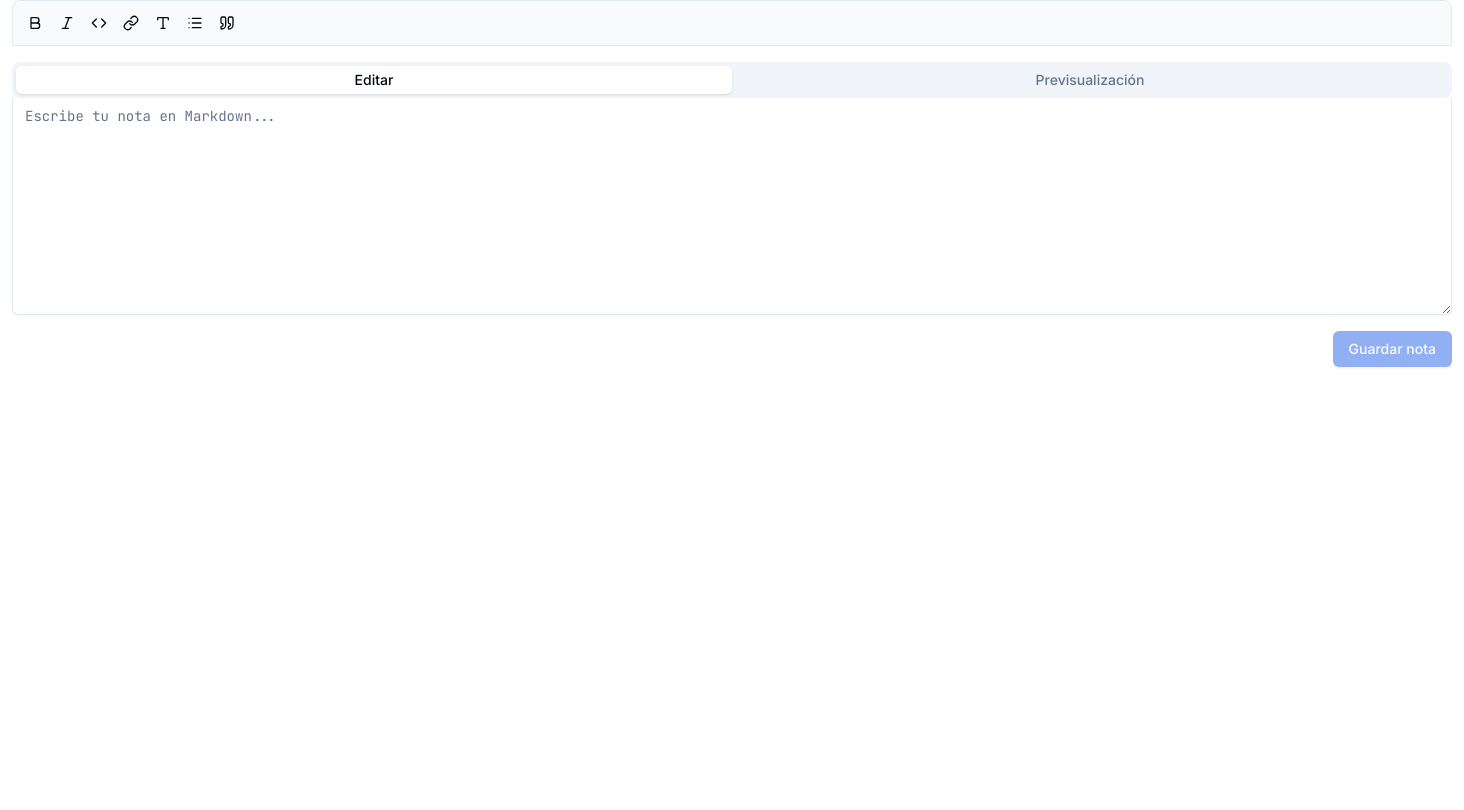
NoteEditor › shows error toast on mutation failure
In the text box with placeholder "Escribe tu nota en Markdown...": (732, 206) [12,98,1452,315], type "Test note"
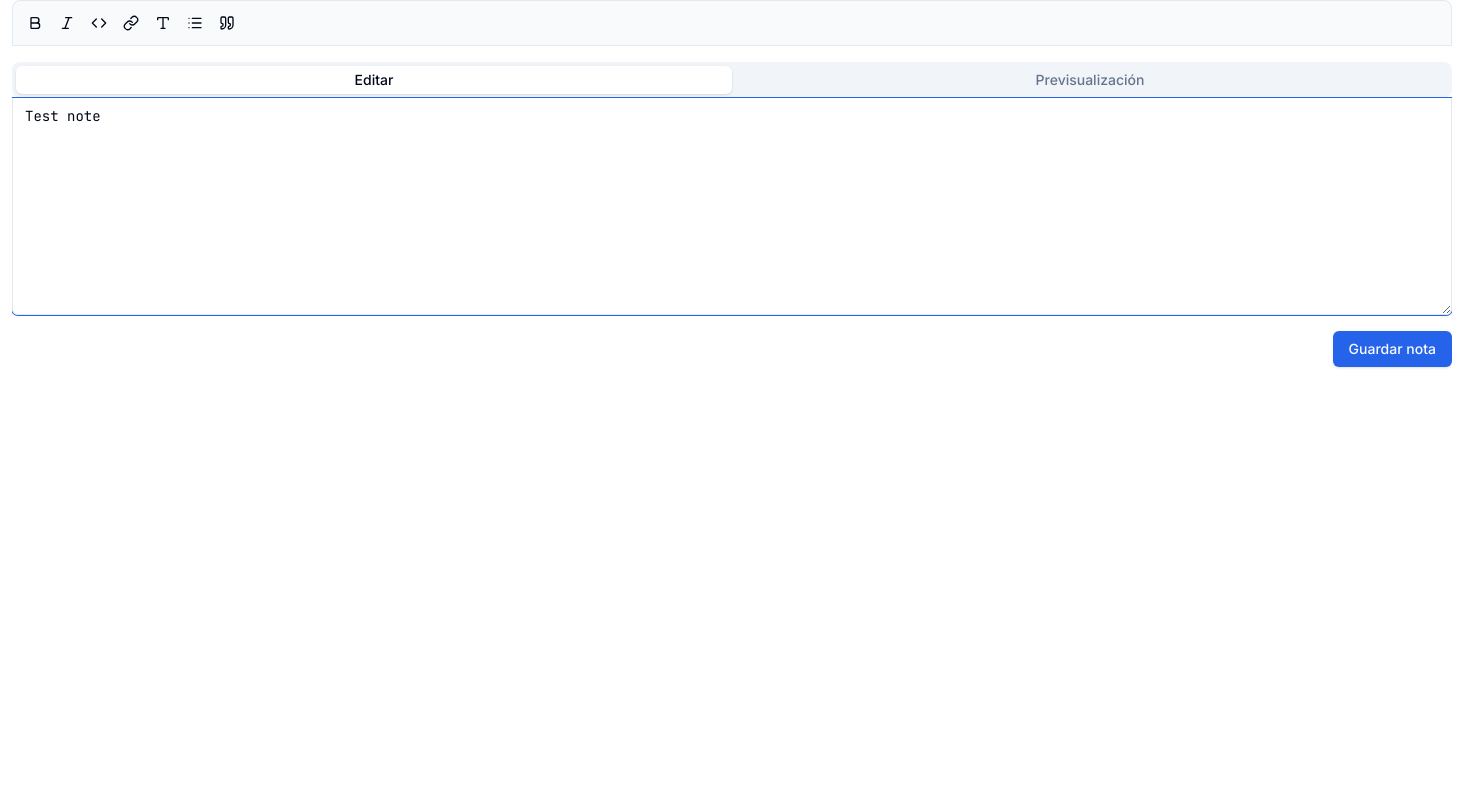
Click the button "Guardar nota": (1392, 349) [1333,331,1452,367]
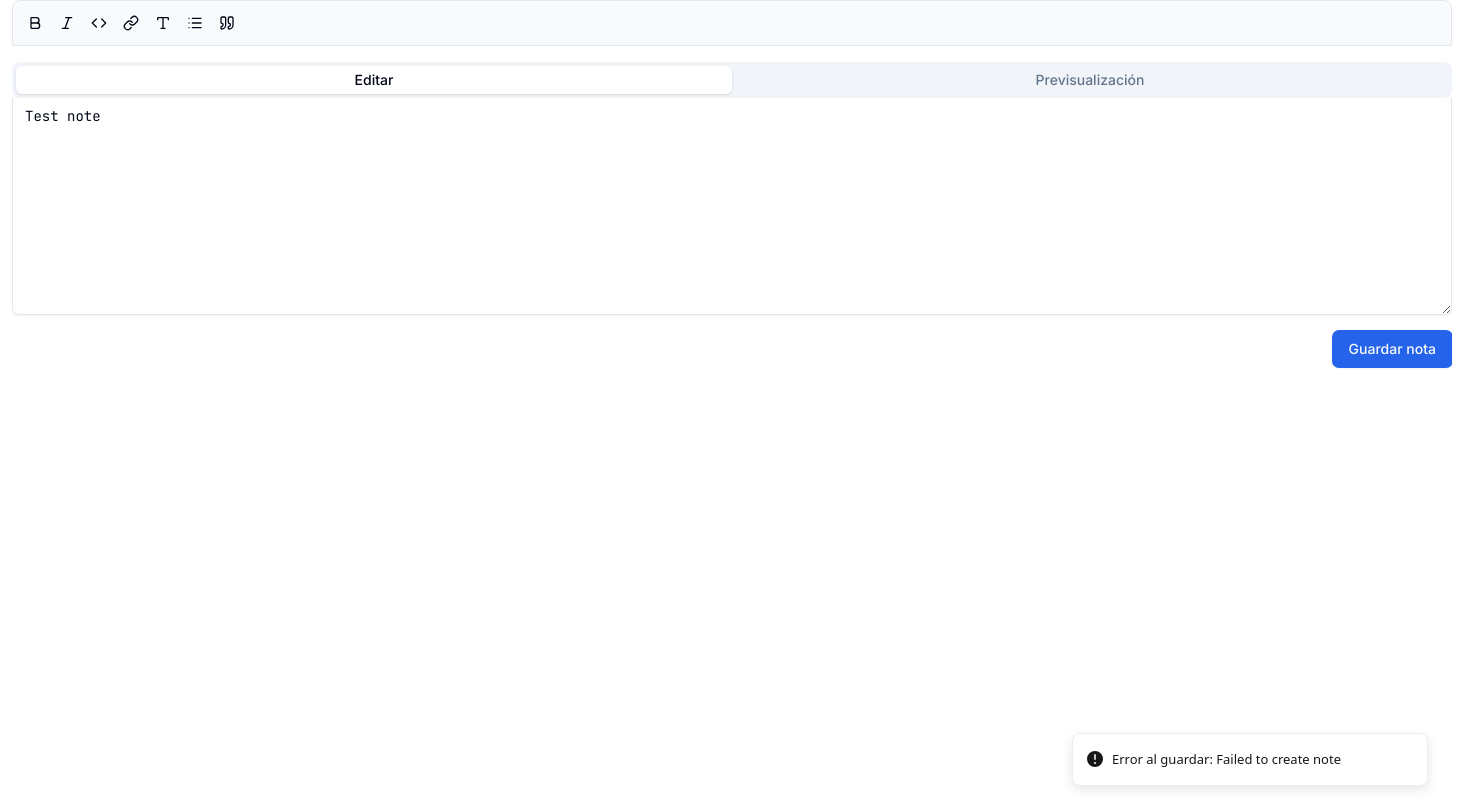
Expected: the text "Error al guardar: Failed to create note" is shown, [1112,750,1341,769]
